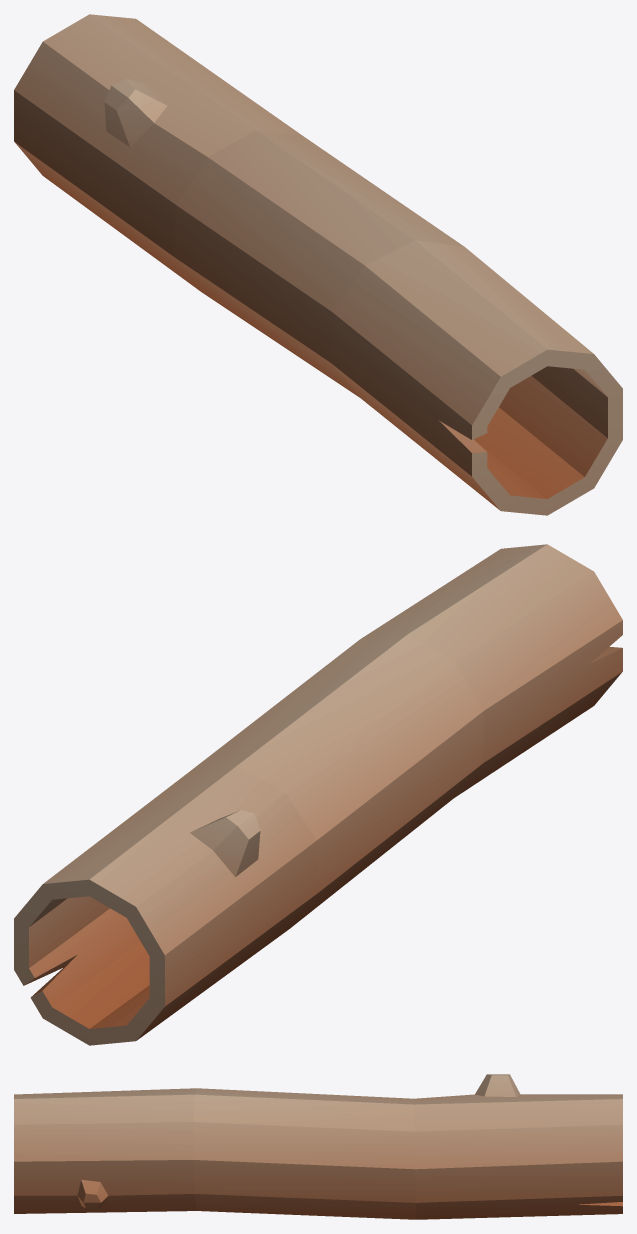
Rendered from log.glb.
The picture shows the model from 3 angles, top to bottom: view 1: azimuth 30°, elevation 25°; view 2: azimuth 150°, elevation 25°; view 3: azimuth 270°, elevation 25°; orthographic projection. The views are drawn at different scales.
Parts seen in each view (by area): view 1: Cylinder.001; view 2: Cylinder.001; view 3: Cylinder.001.
Boxes of the visible parts, x1,y1,x2,y2 form: Cylinder.001: (14,14,622,515); Cylinder.001: (14,544,622,1045); Cylinder.001: (14,1074,622,1219).
Size of the model in its own units: 0.308 by 0.328 by 1.5.
Materials: 1 (1 with a texture image).
